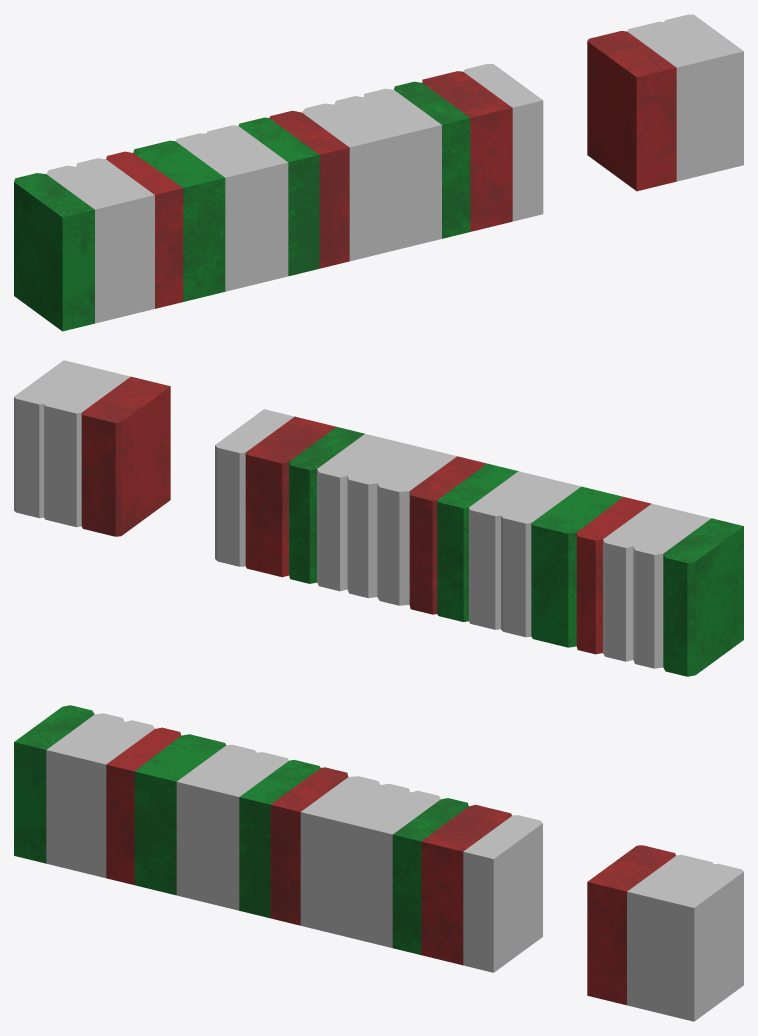
Rendered from book_many_1.fbx.
The picture shows the model from 3 angles, top to bottom: view 1: azimuth 30°, elevation 25°; view 2: azimuth 150°, elevation 25°; view 3: azimuth 330°, elevation 25°; orthographic projection.
Parts seen in each view (by area): view 1: Cube.013; view 2: Cube.013; view 3: Cube.013.
Part boxes in pixels (box(x1,y1,x2,y2)): Cube.013: box(14, 14, 743, 331); Cube.013: box(14, 360, 743, 676); Cube.013: box(14, 705, 743, 1021).
Size of the model in its own units: 812 by 130 by 107.
